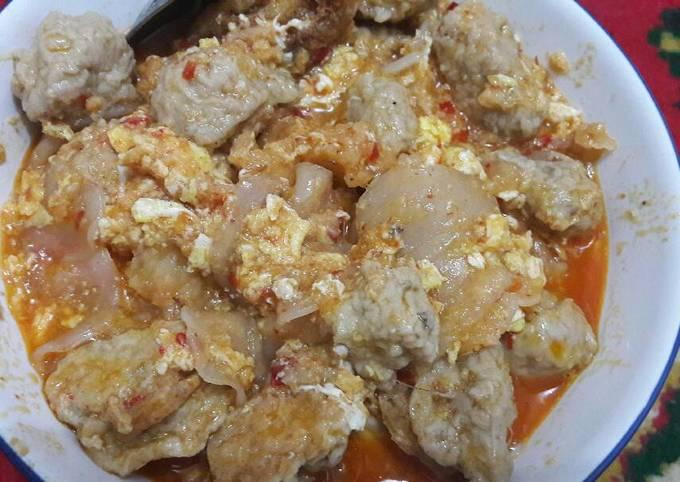seblak: (5, 15, 614, 482)
